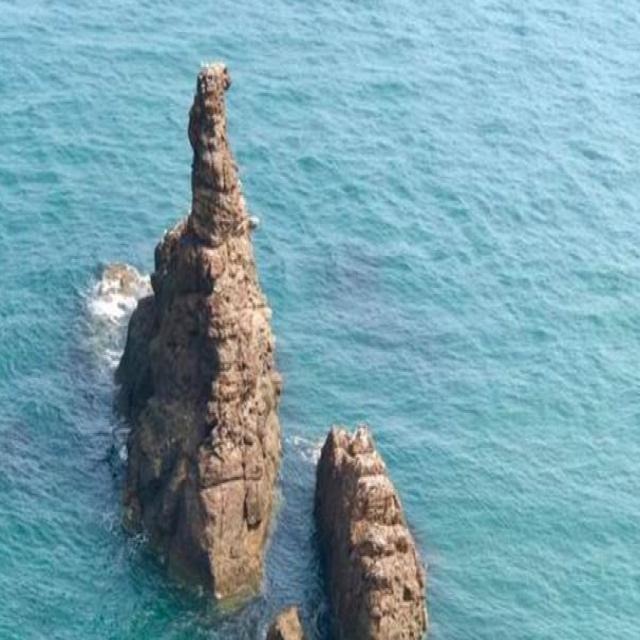reef: (114, 59, 432, 640)
